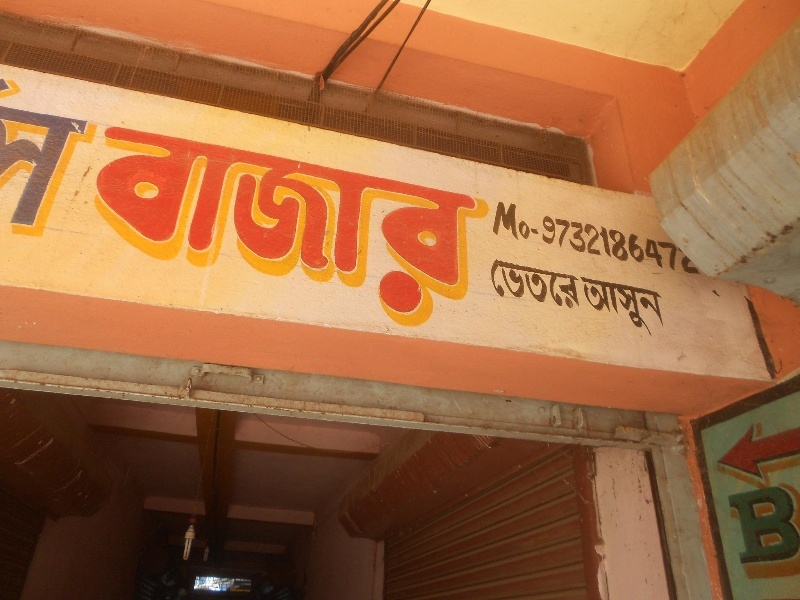text: (113, 125, 128, 338), (129, 125, 144, 338), (145, 125, 160, 338), (161, 125, 176, 338), (177, 125, 192, 338), (193, 125, 208, 338), (209, 125, 224, 338), (225, 125, 240, 338), (241, 125, 256, 338), (257, 125, 272, 338), (273, 125, 288, 338), (289, 125, 304, 338), (305, 125, 320, 338), (321, 125, 336, 338), (337, 125, 352, 338), (353, 125, 368, 338), (369, 125, 384, 338), (385, 125, 400, 338), (401, 125, 416, 338), (417, 125, 432, 338), (433, 125, 448, 338), (449, 125, 464, 338), (465, 125, 480, 338), (17, 74, 32, 243), (33, 74, 48, 243), (49, 74, 64, 243), (65, 74, 80, 243), (2, 74, 16, 243), (101, 125, 112, 338), (81, 74, 94, 243), (481, 125, 489, 338), (737, 482, 752, 580), (753, 482, 768, 580), (769, 482, 784, 580), (785, 482, 800, 580), (724, 482, 736, 580), (497, 200, 512, 276), (513, 200, 528, 276), (529, 200, 544, 276), (545, 200, 560, 276), (561, 200, 576, 276), (577, 200, 592, 276), (593, 200, 608, 276), (609, 200, 624, 276), (625, 200, 640, 276), (641, 200, 656, 276), (657, 200, 672, 276), (593, 275, 608, 341), (609, 275, 624, 341), (625, 275, 640, 341), (641, 275, 656, 341), (578, 275, 592, 341), (657, 275, 670, 341), (497, 258, 512, 313), (513, 258, 528, 313), (529, 258, 544, 313), (545, 258, 560, 313), (561, 258, 576, 313), (673, 200, 681, 276), (689, 245, 700, 274), (491, 258, 496, 313), (679, 245, 688, 274), (209, 576, 224, 593), (225, 576, 240, 593), (577, 258, 581, 313), (196, 576, 208, 593), (241, 576, 252, 593), (188, 529, 192, 534), (193, 529, 195, 534)
